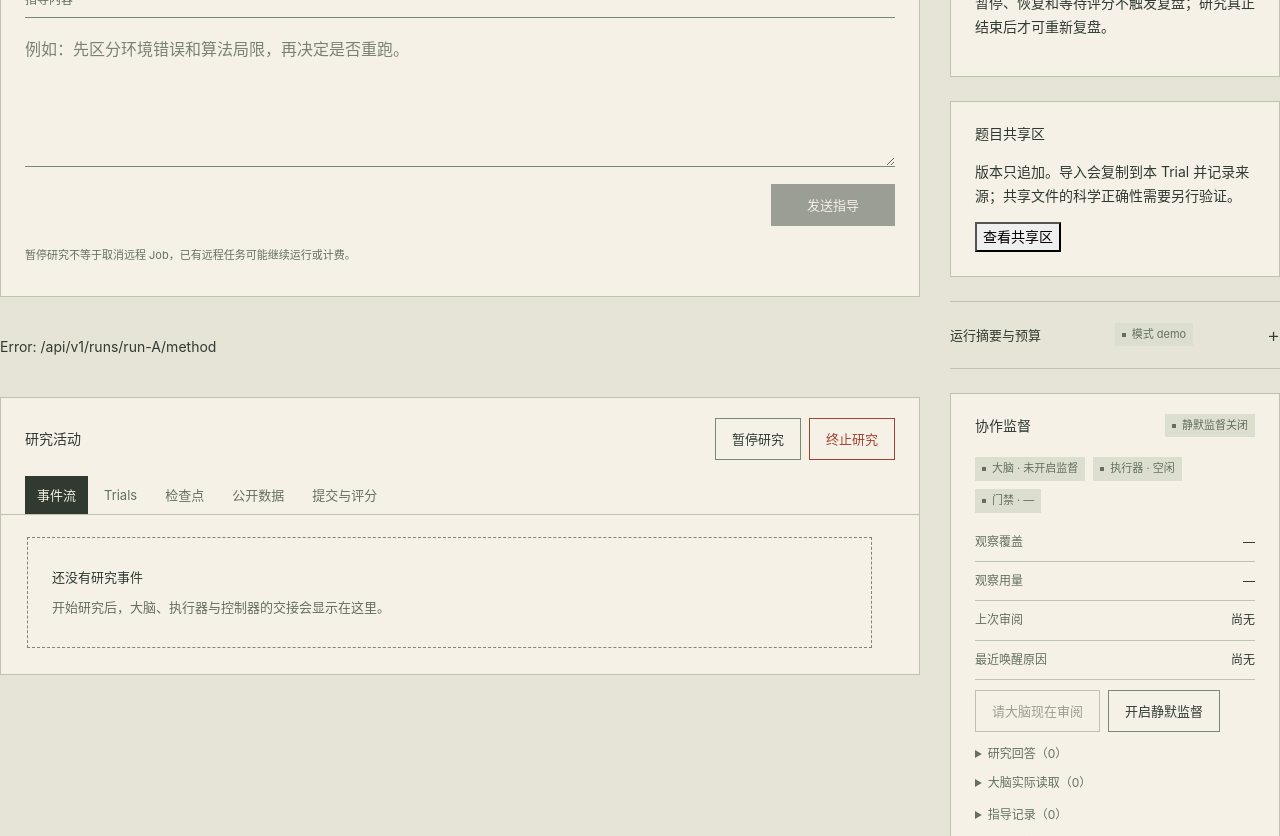
Test: research selection and lifecycle safety › clears old checkpoints immediately and ignores a late checkpoint response
(page scrolled)
Click the tab "检查点". click: click(185, 495)
box: [153,476,216,514]
(page scrolled)
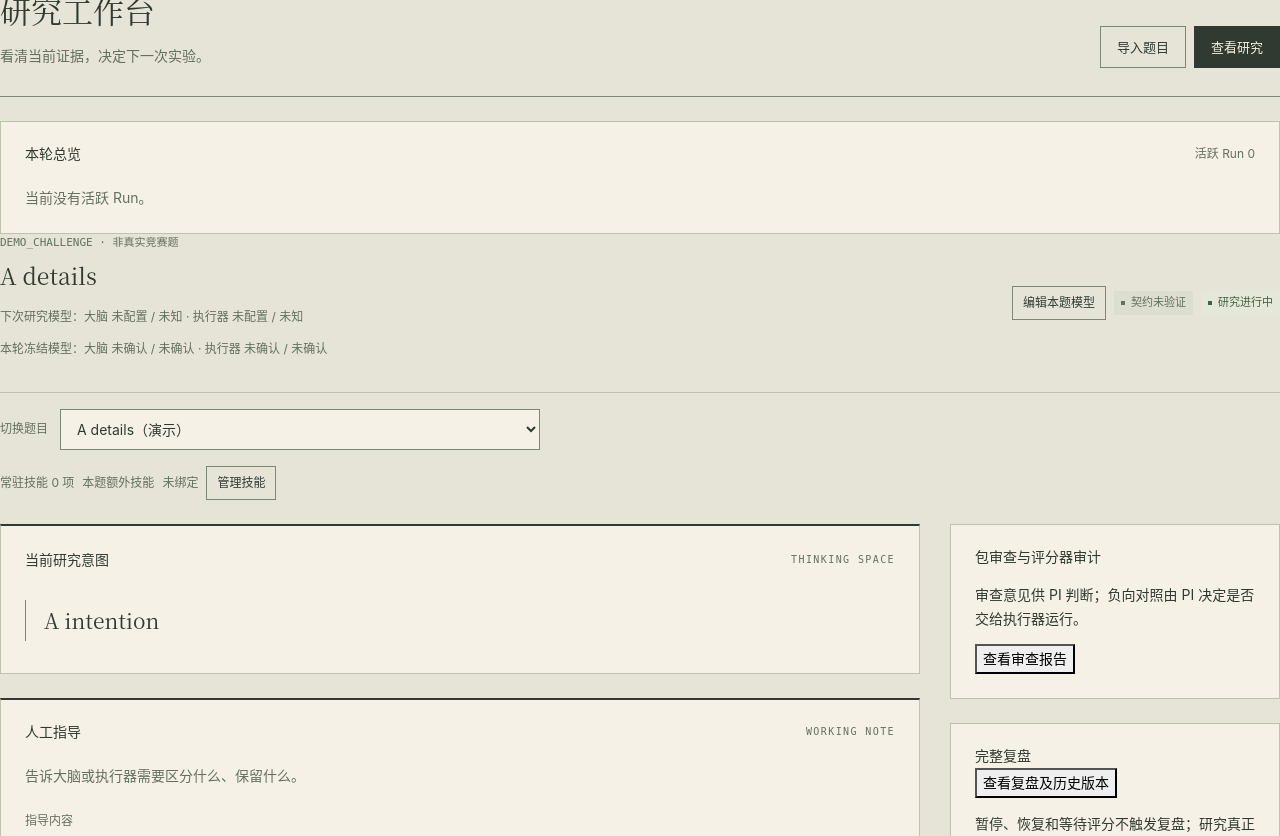
Select "B details（演示）" in the dropdown labelled "切换题目". click: (300, 429)
box: [60,409,540,450]
(page scrolled)
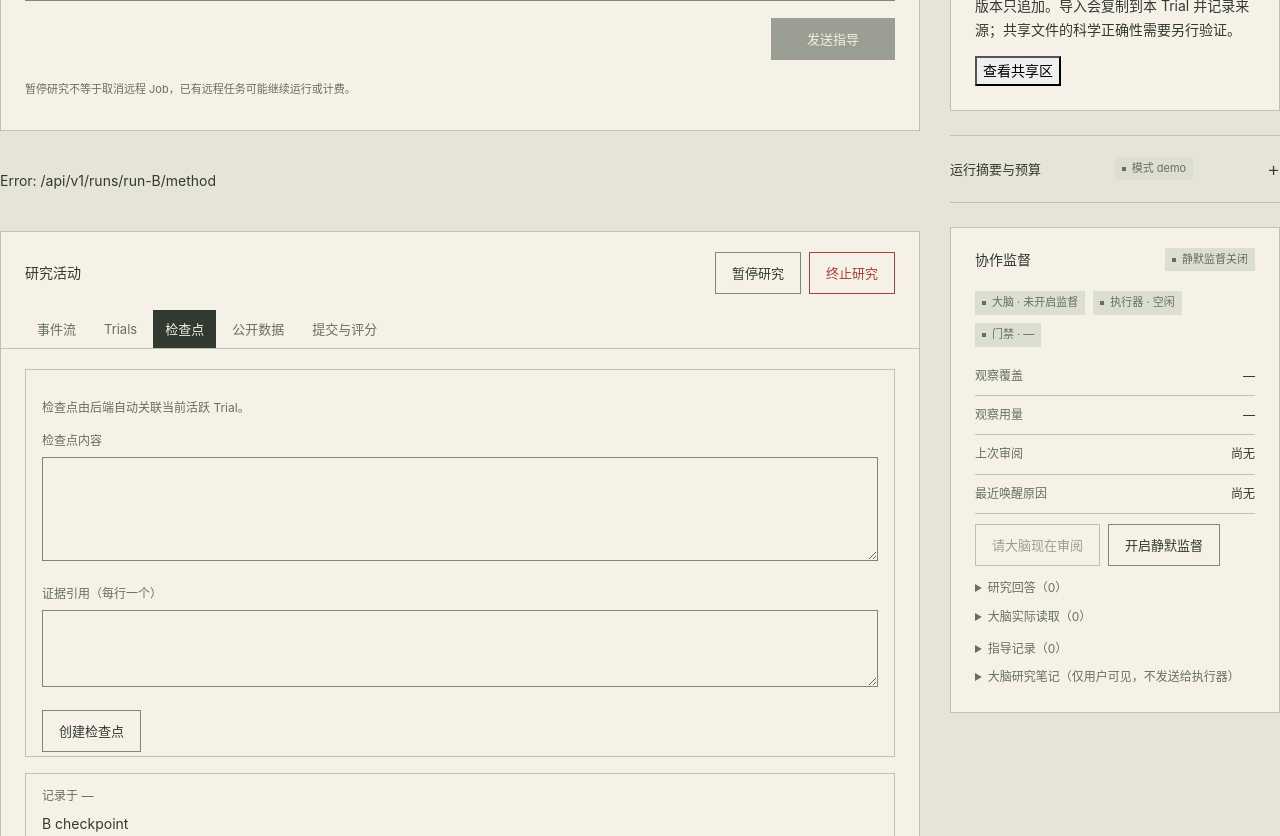
Now the text "B checkpoint" is shown, box [42,815,128,832]
